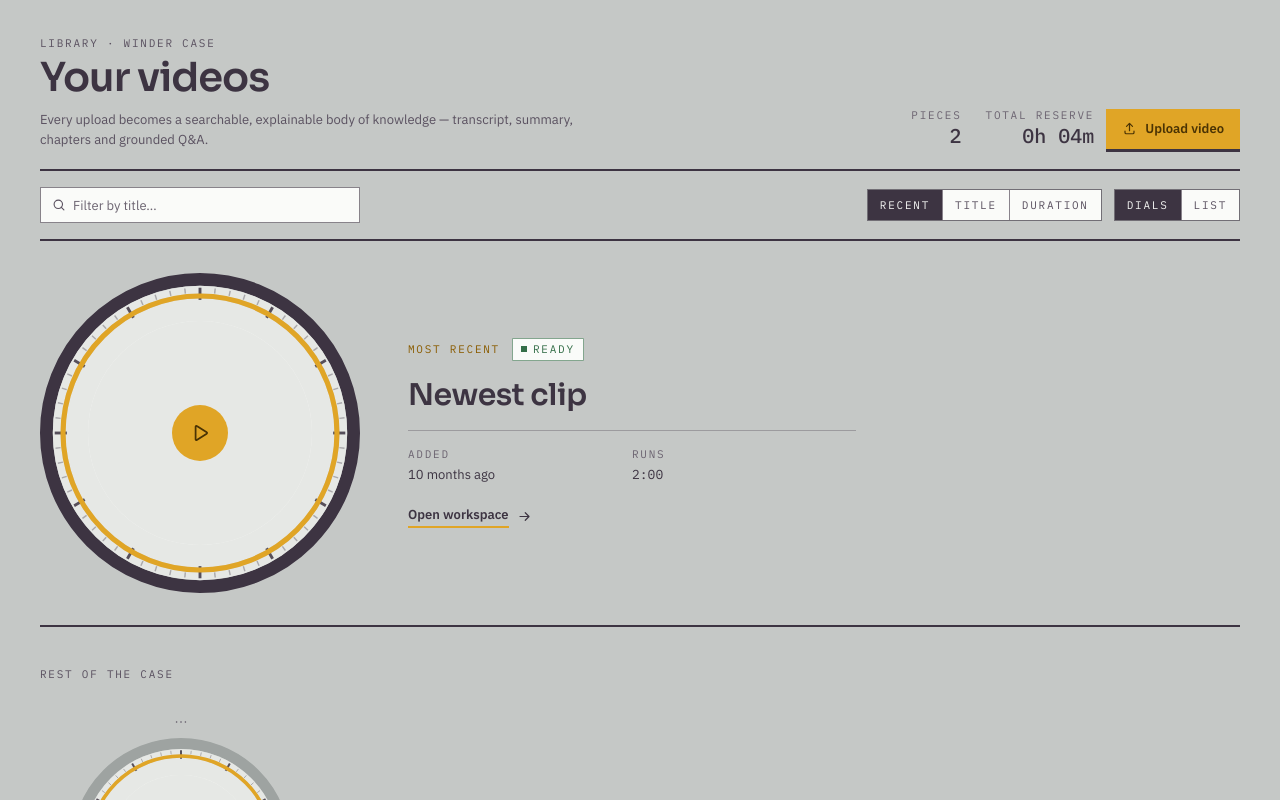
Test: LibraryPage - delete video › keeps the dialog open and shows the real error when delete fails
Click the button named "video actions" at (181, 722), box [165,706,197,738]
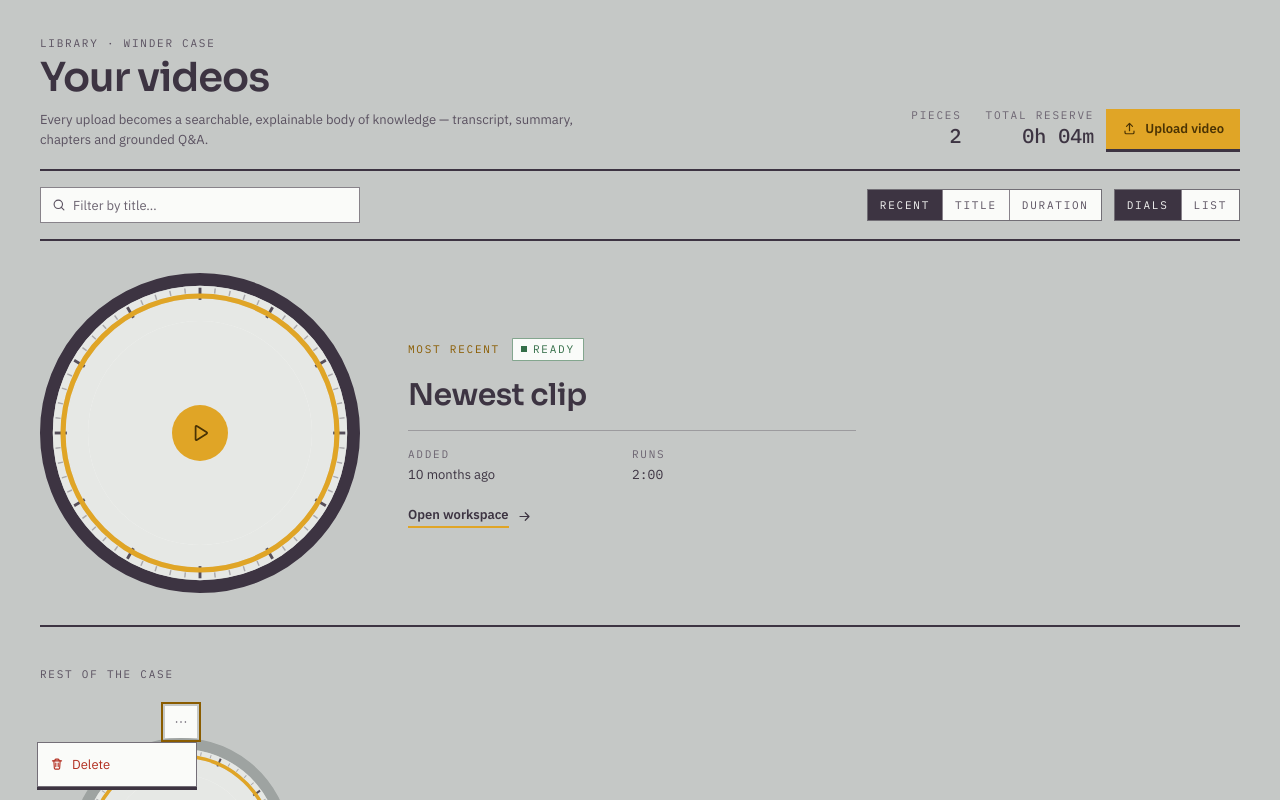
Click the menu item "Delete" at (117, 764), box [38,747,196,782]
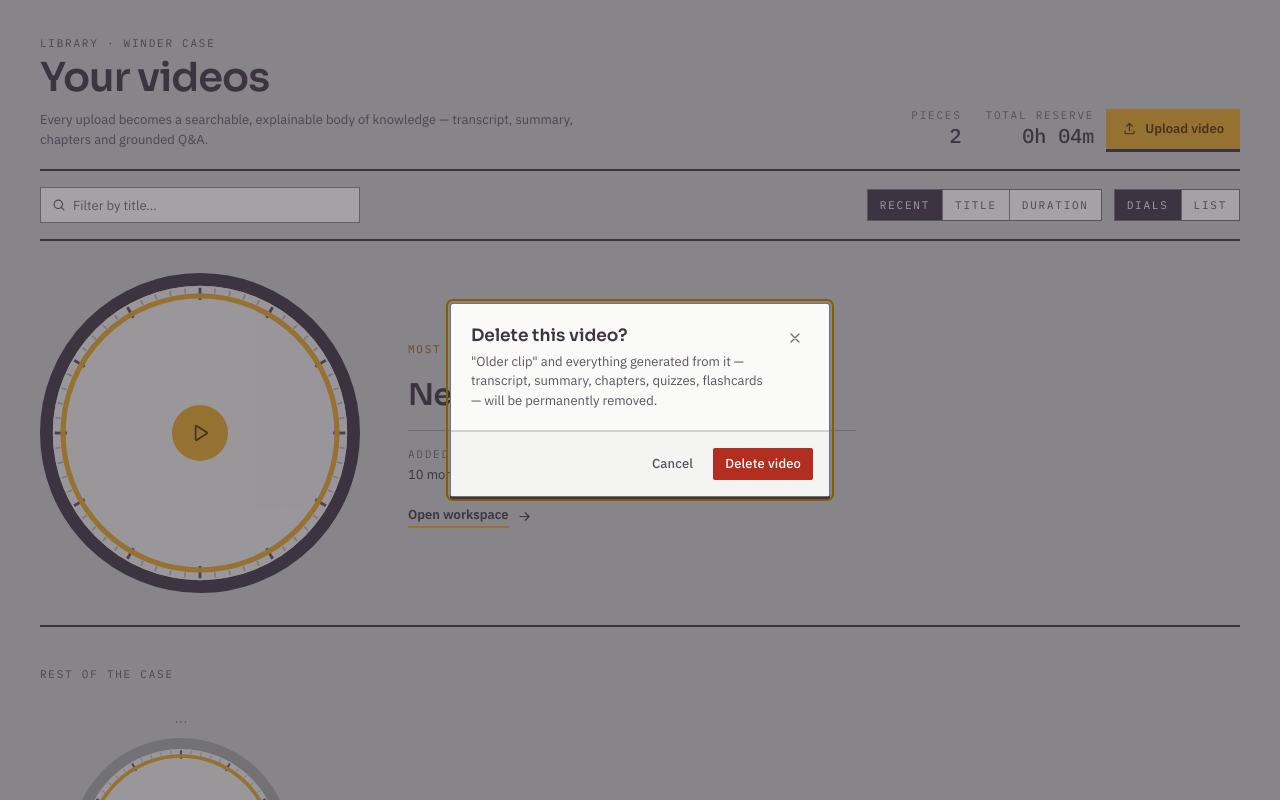
Expected: the dialog is shown, [450,303,830,497]
Click the button "Delete video" at (763, 464), box [713,448,813,480]
(page scrolled)
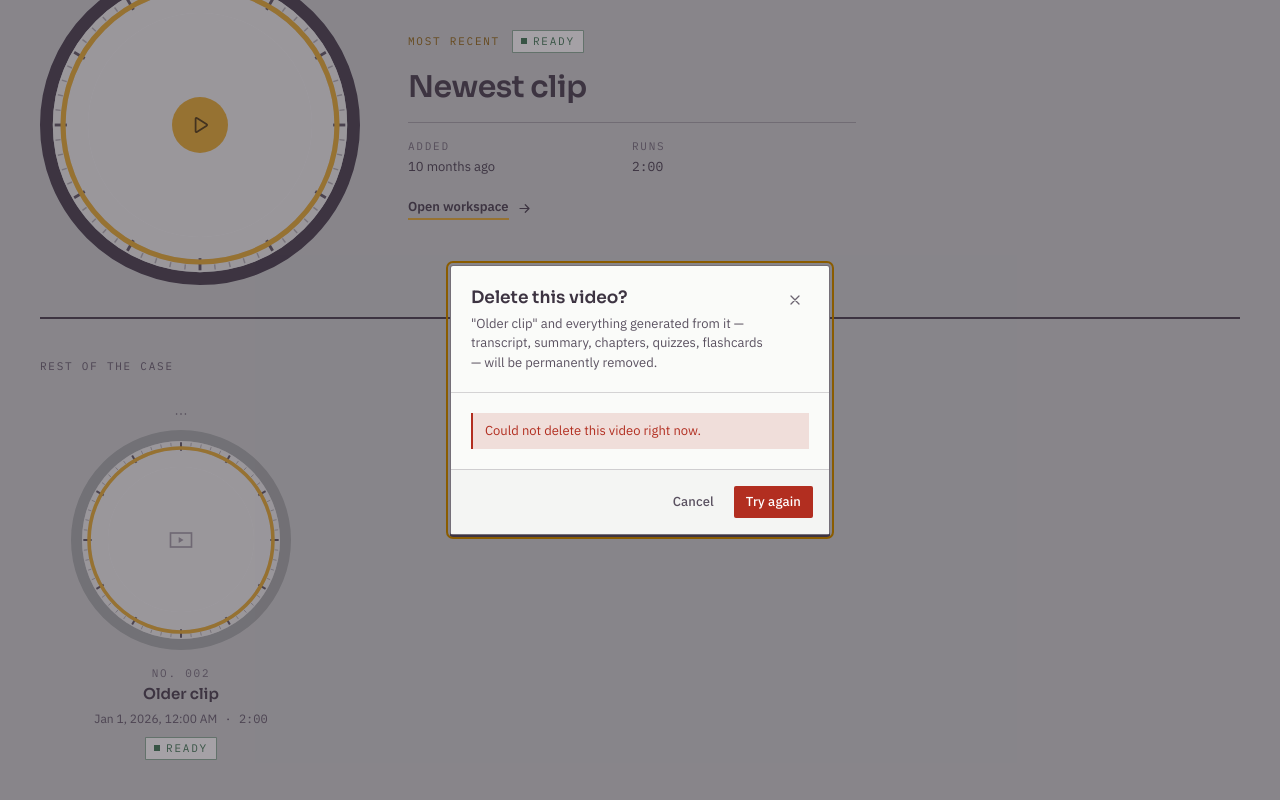
Expected: the heading "Older clip" is shown, [143,684,219,703]
Expected: the dialog is shown, [450,265,830,535]
Expected: the message shows "Could not delete this video right now", [485,422,701,439]
